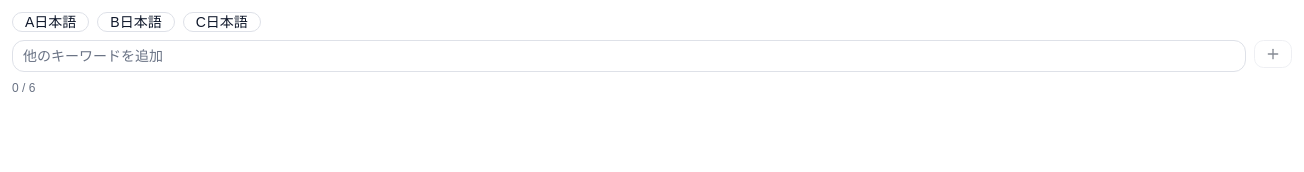
it: FeedbackChipGroup › toggles a preset on by clicking
This screenshot has width=1304, height=172.
Click the button "A日本語". click: click(51, 22)
box: [12, 12, 89, 32]
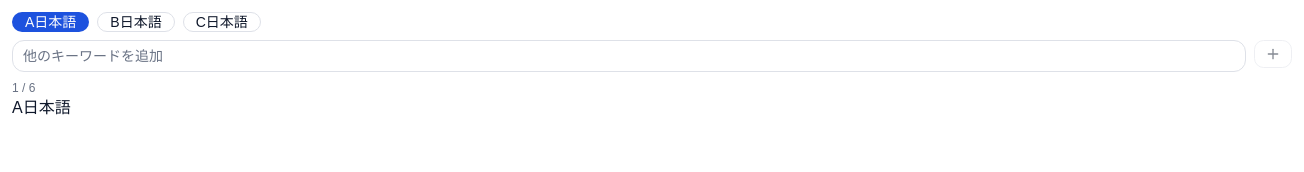
Expected: the text with test id "value" reads "A日本語", [12, 99, 71, 116]
